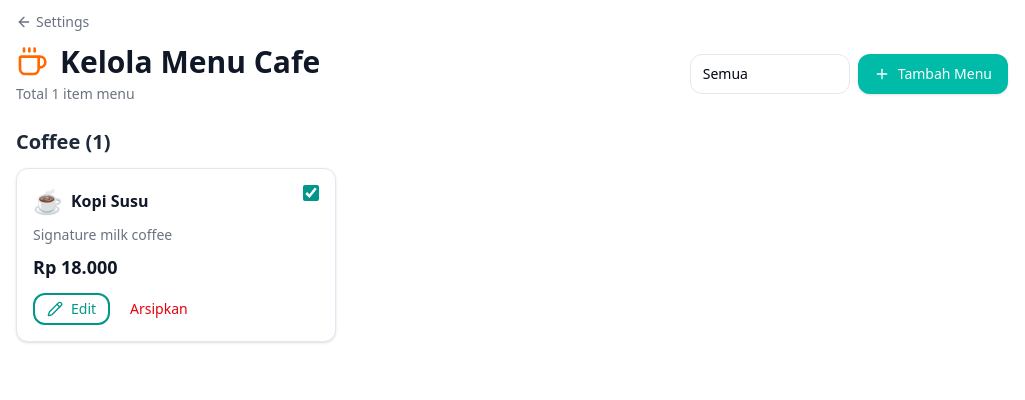
Test case: MenuClient › AC-M26: Arsipkan requires a confirm step, then removes the item from the list
This screenshot has width=1025, height=400.
Click the button with aria-label "arsipkan kopi susu" at (159, 309), box [118, 293, 200, 325]
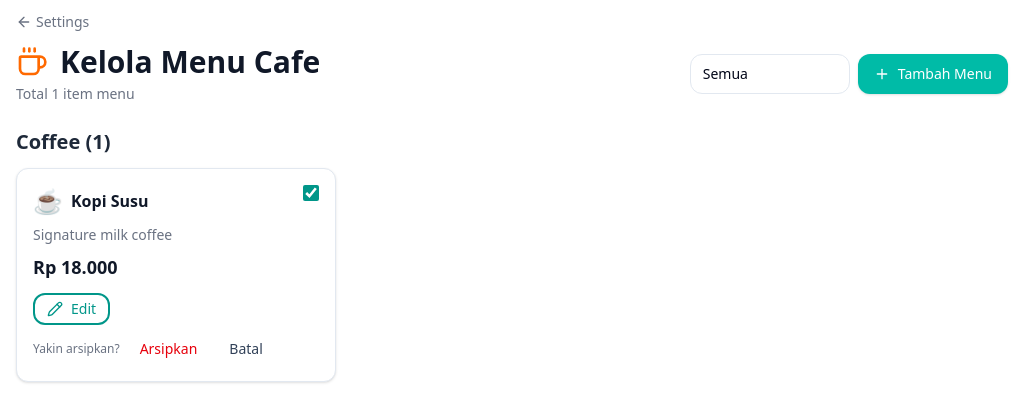
Check: the text "Kopi Susu" is shown, box [71, 189, 148, 213]
Click the button "Arsipkan" at (168, 349), box [128, 333, 209, 365]
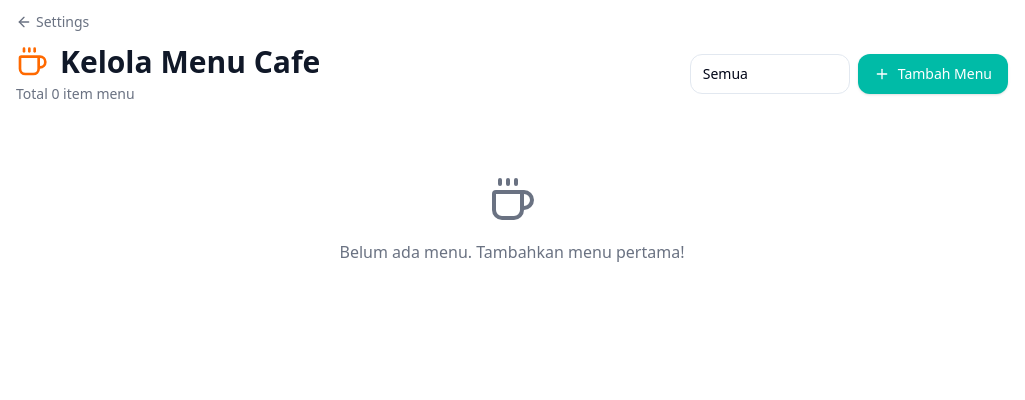
Check: the text "Kopi Susu" is gone
